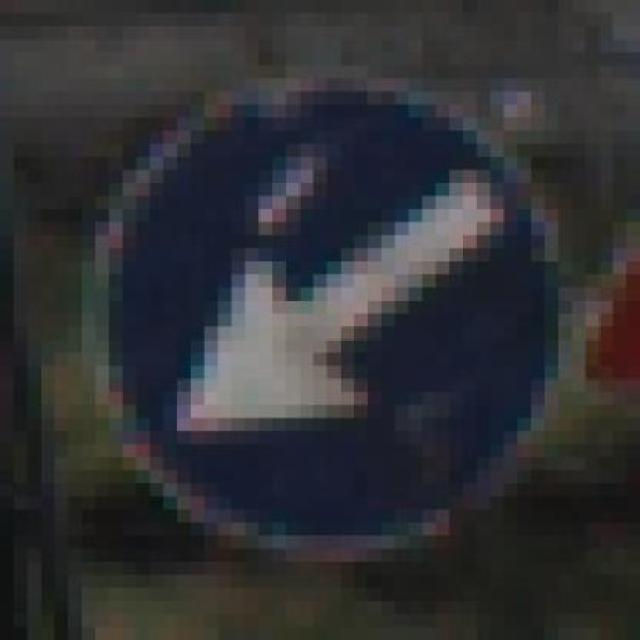Keep-Left: (82, 52, 586, 562)
